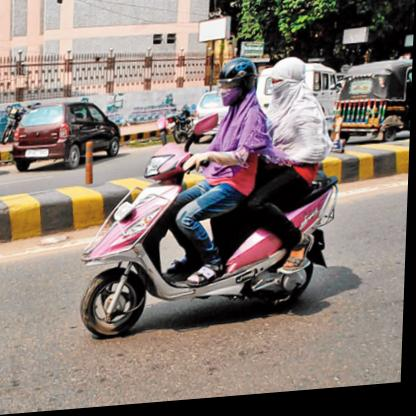With Helmet: (216, 58, 261, 112)
